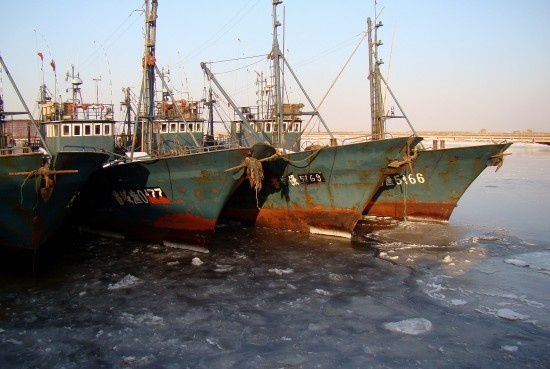otherboat: (1, 47, 269, 245), (125, 81, 429, 254), (242, 118, 514, 241)
